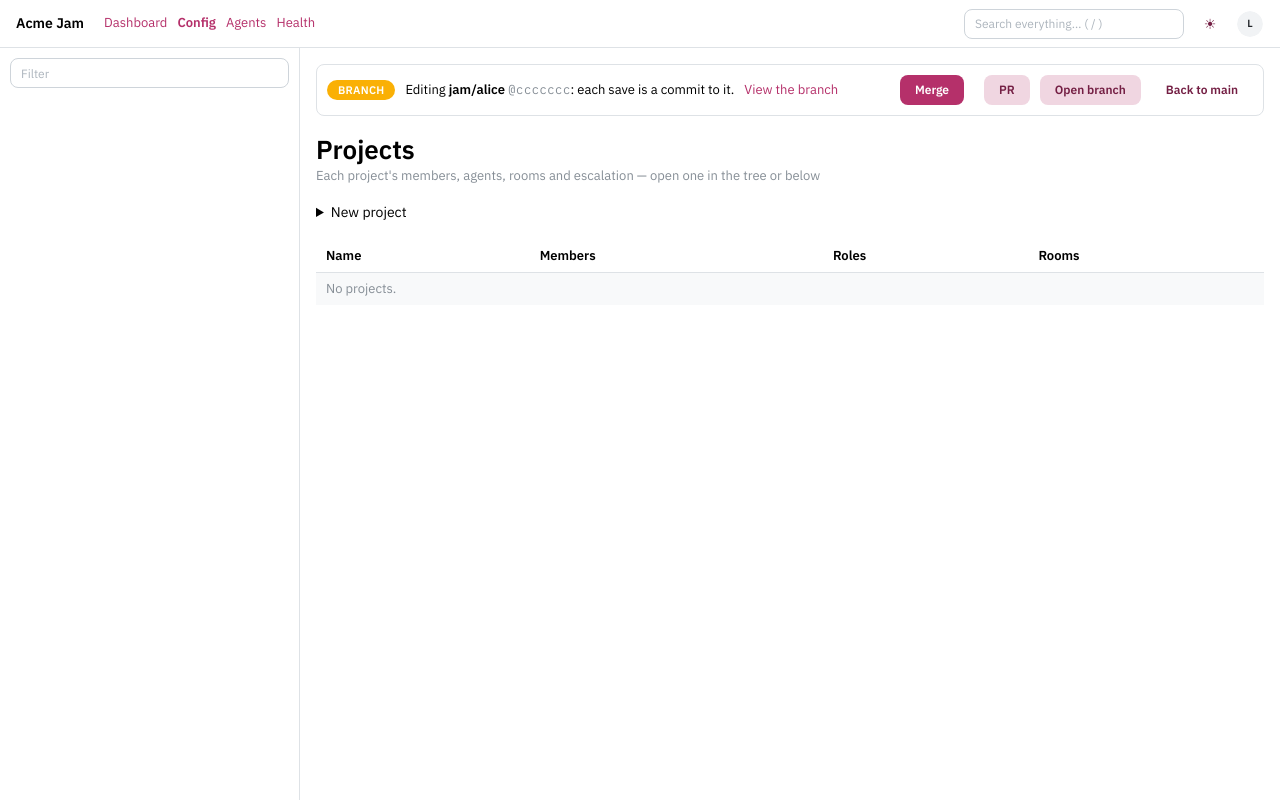
Scenario: the branch bar › Back to main leaves the branch
Click the button "Back to main": (1202, 90) [1151,75,1253,105]
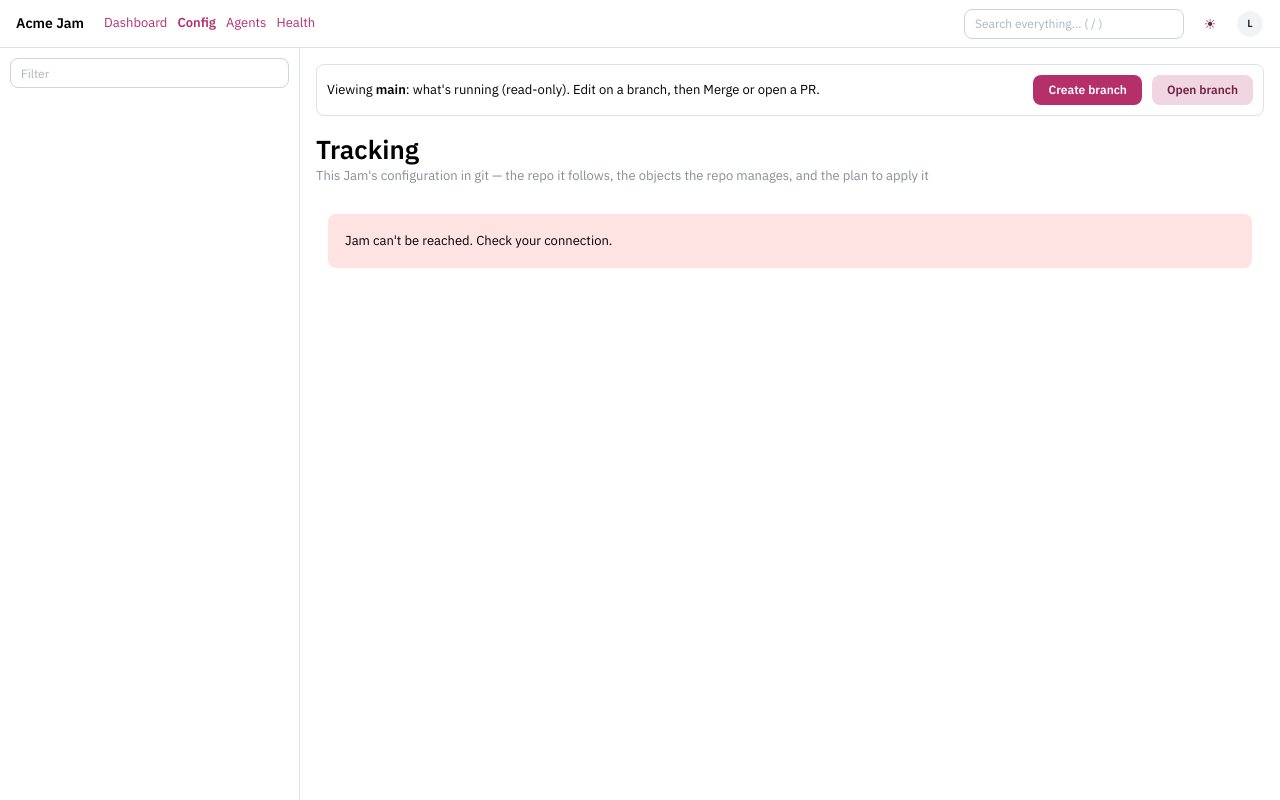
Now the text "what's running (read-only)" is shown, box [406,81,820,98]
